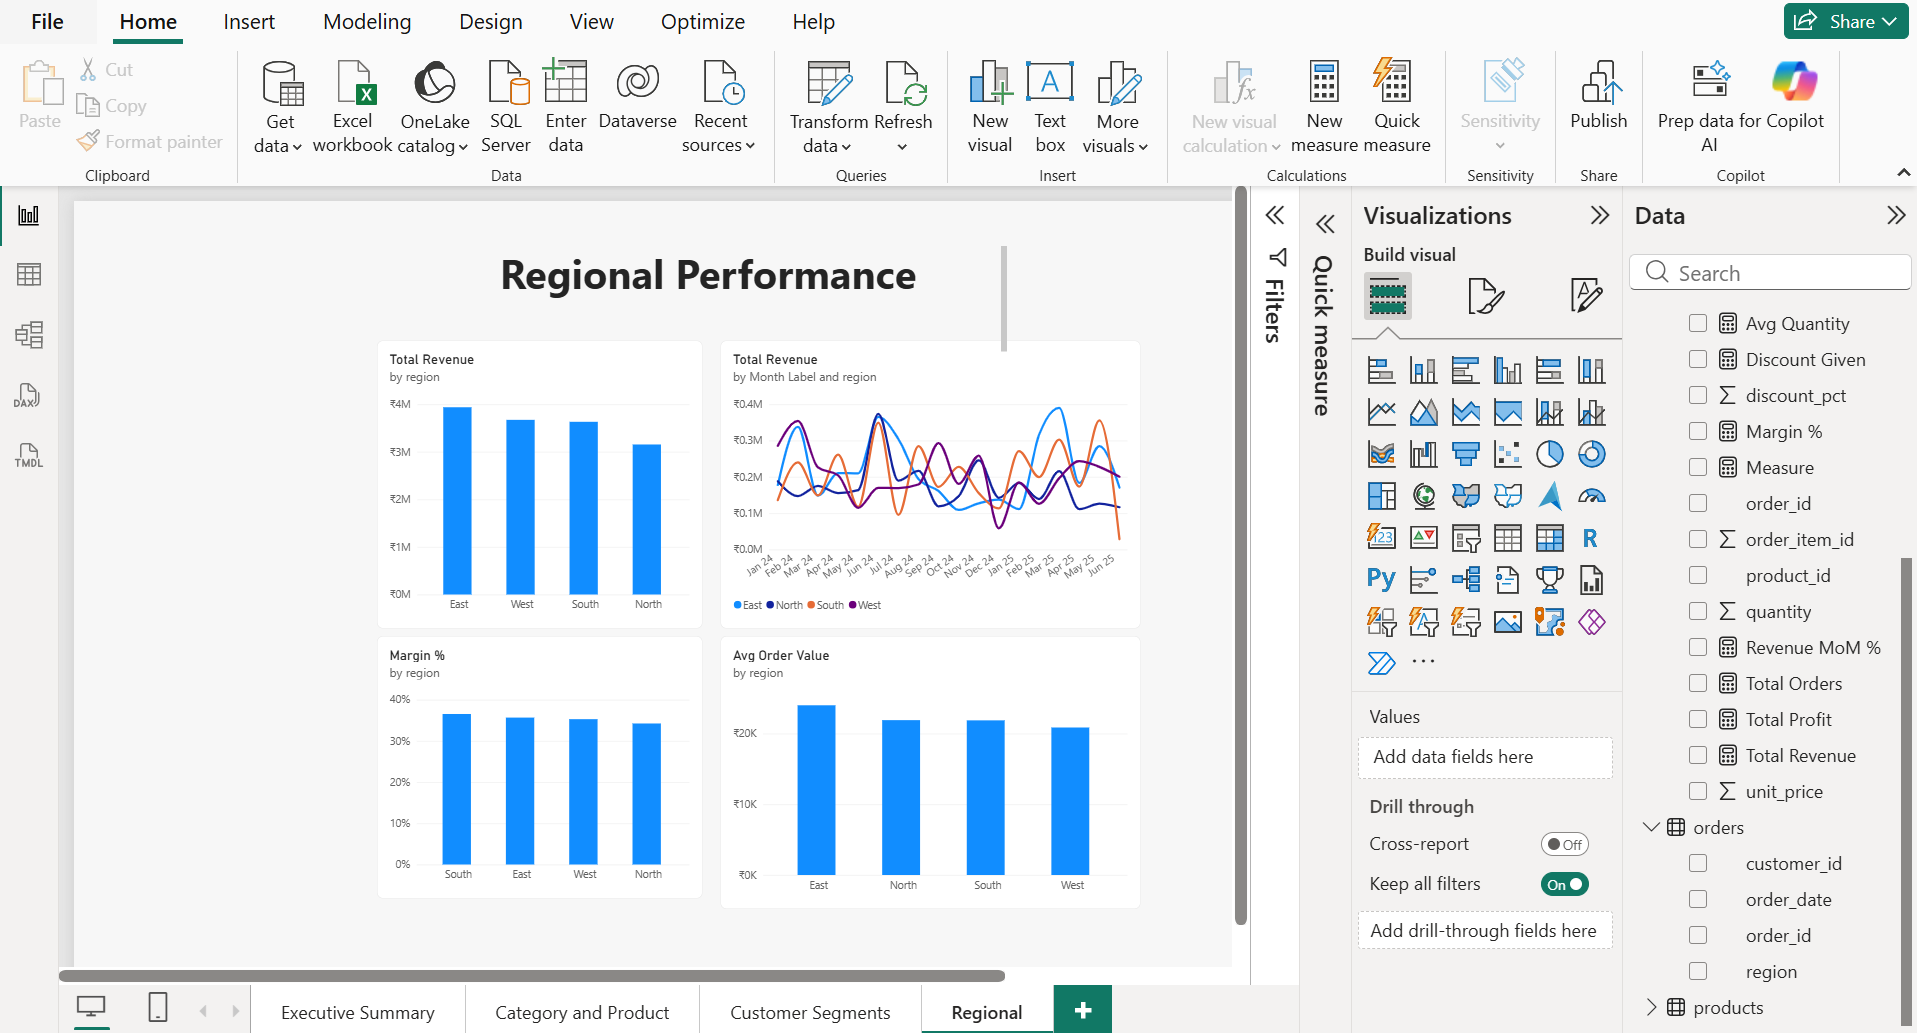

What the dashboard file says about the page in this screenshot:
{"tool":"powerbi","page":{"name":"Regional","canvas":[1920,1080],"ordinal":3},"visuals":[{"type":"columnChart","fields":{"Category":["orders.region"],"Y":["order_items.Total Revenue"]},"box":[404,186,434,384],"z":0},{"type":"clusteredColumnChart","fields":{"Category":["orders.region"],"Y":["order_items.Margin %"]},"box":[404,580,434,350],"z":1000},{"type":"clusteredColumnChart","fields":{"Category":["orders.region"],"Y":["order_items.Avg Order Value"]},"box":[862,580,560,364],"z":2000},{"type":"lineChart","fields":{"Category":["calendar.Month Label"],"Y":["order_items.Total Revenue"],"Series":["orders.region"]},"box":[862,186,560,384],"z":3000},{"type":"textbox","box":[568,60,676,150],"z":4000}]}

Visuals, with their boxes on the page's 1920x1080 design canvas (x1, y1, x2, y2). These are canvas units, not pixel positions in the 1917x1033 screenshot, which may show the page scaled, cropped or inside an application window:
columnChart - orders.region x order_items.Total Revenue: region(404, 186, 838, 570)
clusteredColumnChart - orders.region x order_items.Margin %: region(404, 580, 838, 930)
clusteredColumnChart - orders.region x order_items.Avg Order Value: region(862, 580, 1422, 944)
lineChart - calendar.Month Label x order_items.Total Revenue: region(862, 186, 1422, 570)
textbox: region(568, 60, 1244, 210)
